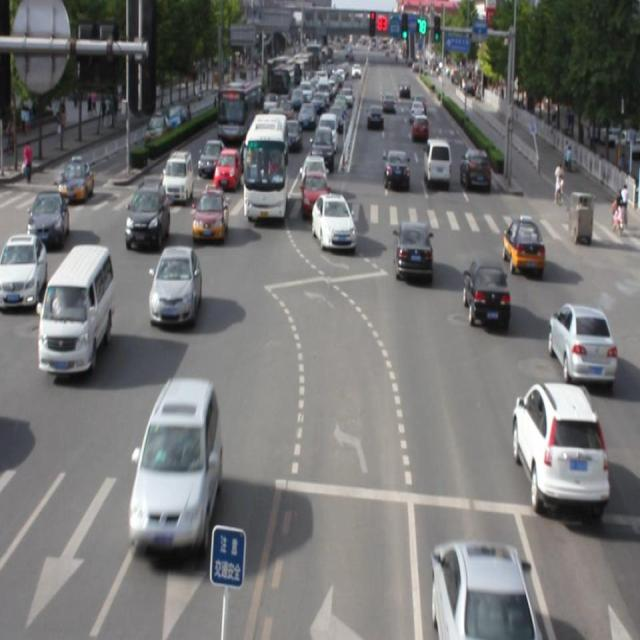car: (128, 377, 220, 550), (514, 383, 606, 512), (431, 535, 534, 640), (548, 302, 615, 382), (148, 246, 201, 324), (462, 257, 508, 327), (126, 178, 170, 251), (311, 196, 355, 253), (502, 216, 544, 271), (394, 220, 432, 279), (191, 187, 227, 241)
truck: (38, 242, 112, 374)
